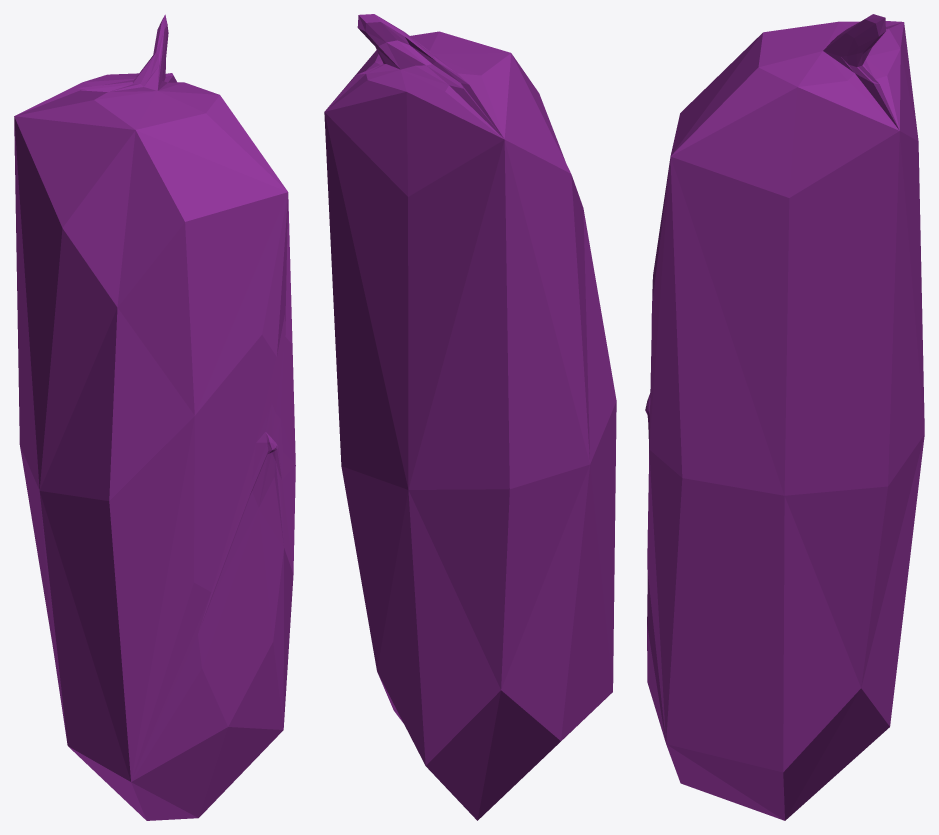
3 renders of one model, left to right at view 1: azimuth 30°, elevation 25°; view 2: azimuth 150°, elevation 25°; view 3: azimuth 270°, elevation 25°, orthographic. The views are drawn at different scales.
Visible parts, largest first — view 1: 515_Cube.2080; view 2: 515_Cube.2080; view 3: 515_Cube.2080.
Part boxes in pixels (x1,y1,x2,y2): 515_Cube.2080: (14,14,295,820); 515_Cube.2080: (324,14,616,820); 515_Cube.2080: (645,14,924,820).
Bounding box in the file's own units: 3.73 × 12.87 × 3.89.
